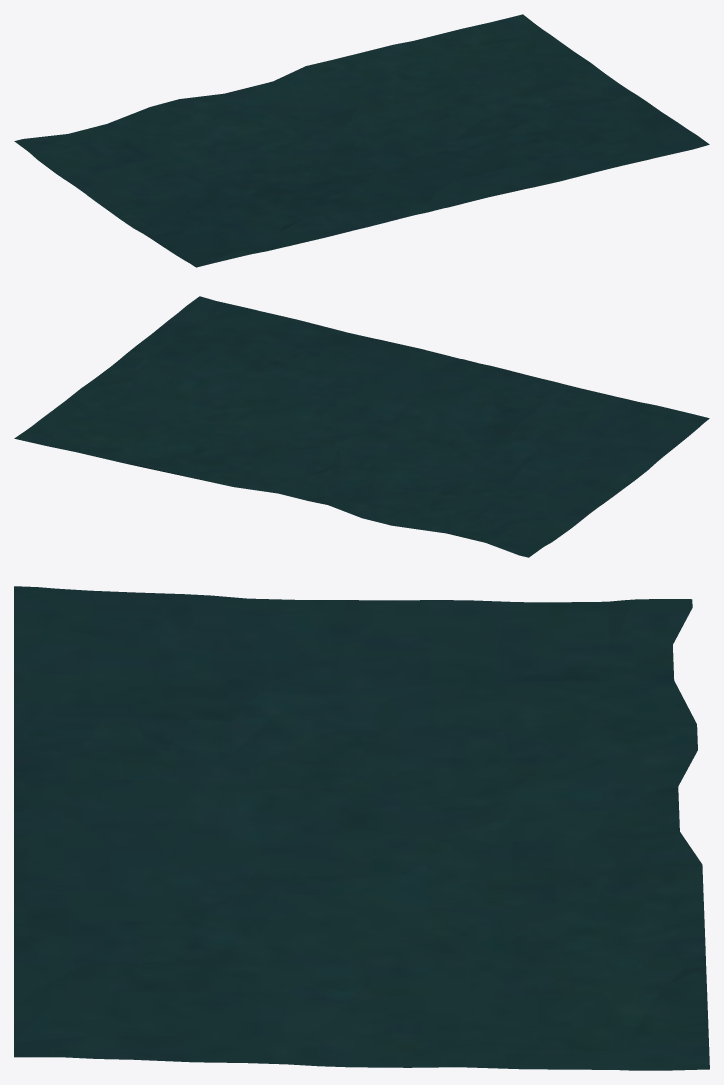
3 views of the same model, one above another, from view 1: azimuth 30°, elevation 25°; view 2: azimuth 150°, elevation 25°; view 3: azimuth 270°, elevation 25° (orthographic). The views are drawn at different scales.
Bounding box in the file's own units: 52.22 × 1.04 × 32.92.
Materials: 2 (2 with a texture image).
